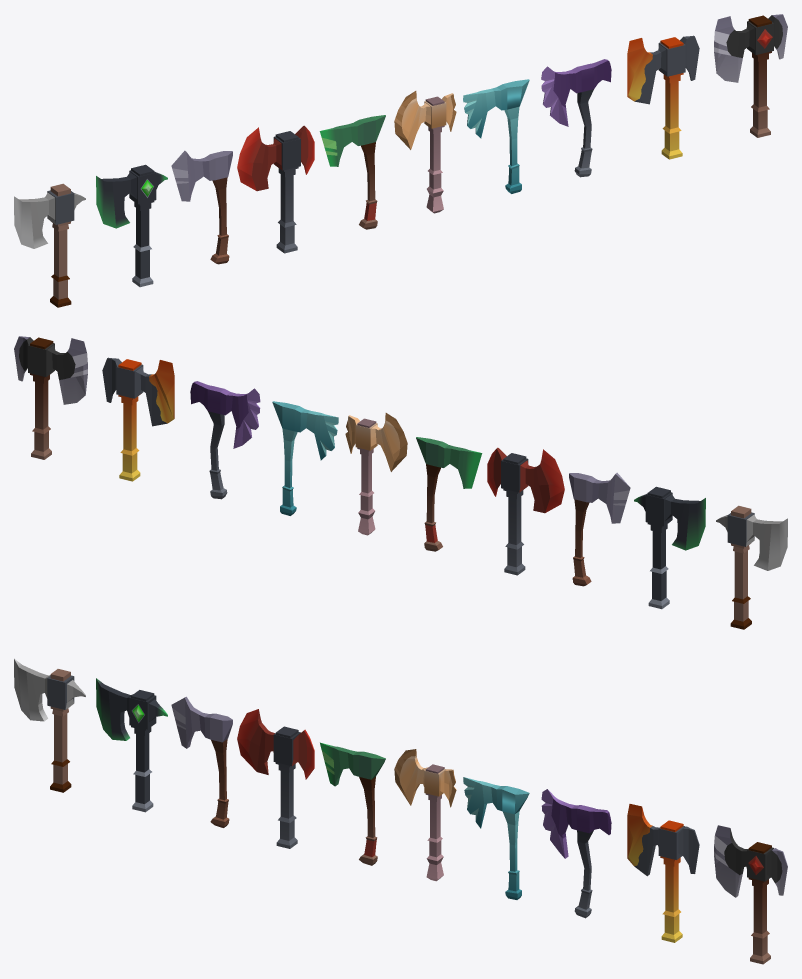
The model's file is Axes.fbx.
3 views of the same model, one above another, from view 1: azimuth 30°, elevation 25°; view 2: azimuth 150°, elevation 25°; view 3: azimuth 330°, elevation 25° (orthographic).
Parts seen in each view (by area): view 1: axe_9, axe_10, axe_4, axe_1, axe_2, axe_8, axe_6, axe_7, axe_3, axe_5; view 2: axe_10, axe_9, axe_4, axe_1, axe_2, axe_8, axe_6, axe_7, axe_3, axe_5; view 3: axe_10, axe_9, axe_4, axe_1, axe_2, axe_8, axe_6, axe_7, axe_3, axe_5.
Boxes of the visible parts, x1,y1,x2,y2 form: axe_9: [627, 35, 699, 159]; axe_10: [714, 14, 787, 137]; axe_4: [237, 125, 314, 253]; axe_1: [14, 183, 85, 307]; axe_2: [96, 164, 167, 287]; axe_8: [541, 59, 611, 177]; axe_6: [394, 91, 456, 213]; axe_7: [463, 79, 529, 193]; axe_3: [171, 150, 232, 264]; axe_5: [319, 115, 385, 229]; axe_10: [14, 336, 87, 459]; axe_9: [102, 357, 174, 481]; axe_4: [487, 447, 564, 575]; axe_1: [716, 505, 787, 629]; axe_2: [634, 486, 705, 609]; axe_8: [190, 381, 260, 499]; axe_6: [345, 413, 407, 535]; axe_7: [272, 401, 338, 515]; axe_3: [569, 472, 630, 586]; axe_5: [416, 437, 482, 551]; axe_10: [714, 825, 787, 964]; axe_9: [627, 804, 699, 942]; axe_4: [237, 709, 314, 848]; axe_1: [14, 658, 85, 792]; axe_2: [96, 678, 167, 812]; axe_8: [541, 789, 611, 918]; axe_6: [394, 749, 456, 881]; axe_7: [463, 777, 529, 899]; axe_3: [171, 696, 232, 827]; axe_5: [320, 742, 385, 865].
Bounding box in the file's own units: 15.34 × 0.3491 × 2.44.
